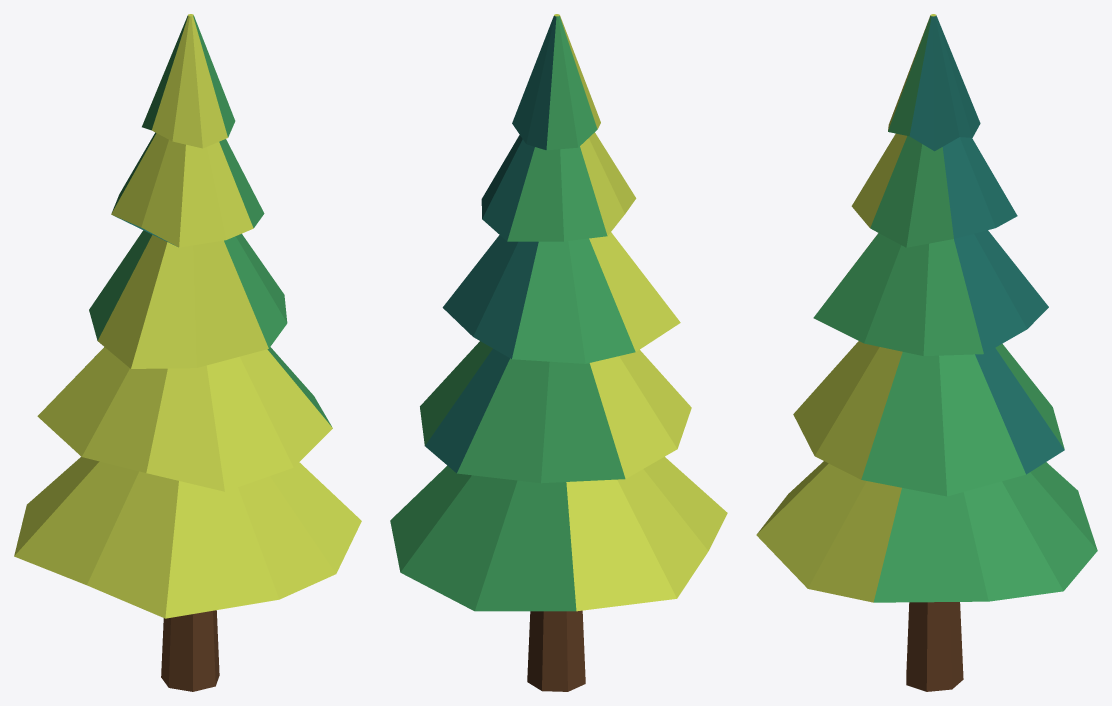
The model's file is Agac_Cam.fbx.
The picture shows the model from 3 angles, left to right: view 1: azimuth 30°, elevation 25°; view 2: azimuth 150°, elevation 25°; view 3: azimuth 270°, elevation 25°; orthographic projection.
Parts seen in each view (by area): view 1: Agac_Cam; view 2: Agac_Cam; view 3: Agac_Cam.
Part boxes in pixels (bbox=[...]): Agac_Cam: bbox=[14, 14, 361, 691]; Agac_Cam: bbox=[390, 14, 727, 691]; Agac_Cam: bbox=[756, 14, 1097, 691].
Bounding box in the file's own units: 222 × 487 × 227.
